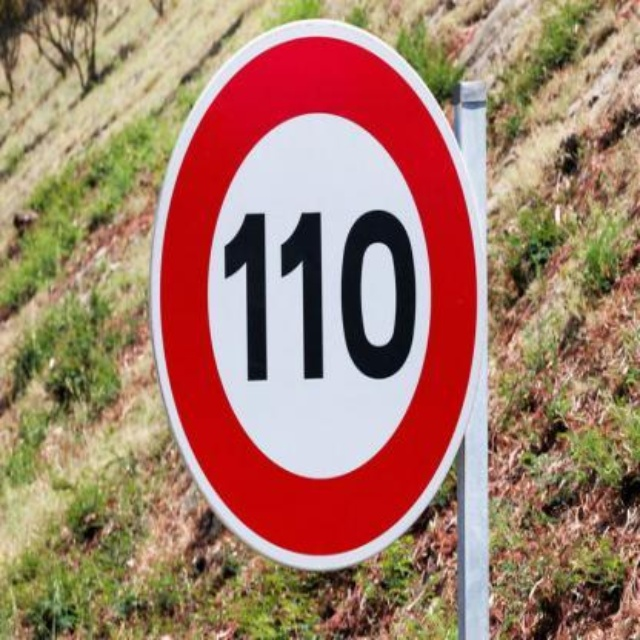Tốc độ tối đa cho phép 110km/h: (158, 25, 479, 569)
